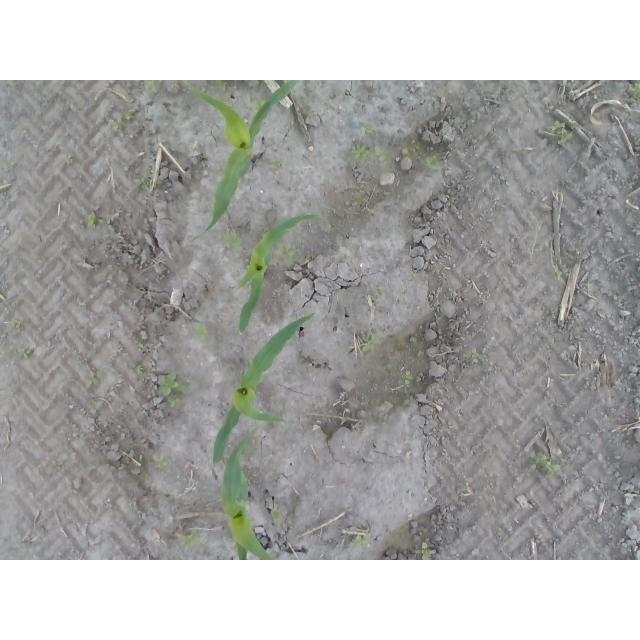Maize: (175, 81, 307, 244), (211, 312, 317, 471), (233, 215, 320, 334), (219, 429, 285, 559)
Weeds: (157, 373, 185, 407), (530, 452, 562, 478), (549, 119, 575, 149), (352, 142, 388, 162), (353, 532, 374, 552), (114, 112, 135, 132), (415, 542, 438, 560), (4, 348, 32, 361), (83, 371, 103, 389), (87, 211, 107, 229), (361, 336, 380, 354), (179, 537, 205, 549), (467, 351, 489, 365), (135, 175, 153, 191), (226, 229, 239, 249), (426, 155, 442, 171), (359, 123, 376, 137), (271, 510, 282, 527), (630, 81, 640, 99), (402, 369, 414, 383), (145, 82, 159, 94), (156, 455, 169, 467), (198, 323, 206, 342), (6, 162, 17, 175), (556, 265, 564, 279), (376, 286, 385, 298), (68, 152, 75, 164), (219, 84, 228, 93), (134, 364, 142, 374), (14, 319, 20, 330), (258, 100, 266, 108), (273, 158, 281, 165), (137, 342, 143, 351), (447, 197, 456, 201), (404, 287, 409, 294), (415, 270, 420, 276)
